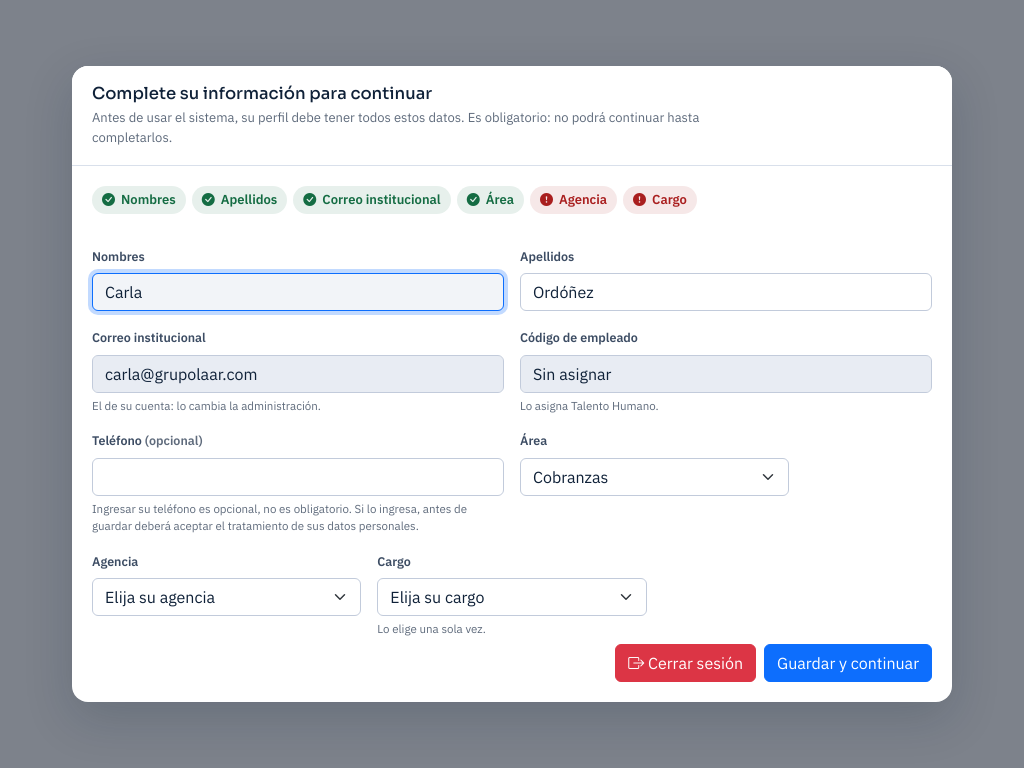
Scenario: Perfil obligatorio al entrar › si guarda y aún falta algo, sigue bloqueado
Type "0994182273" into the field labelled "Teléfono (opcional)" at (298, 477), box 92,458 -> 504,496
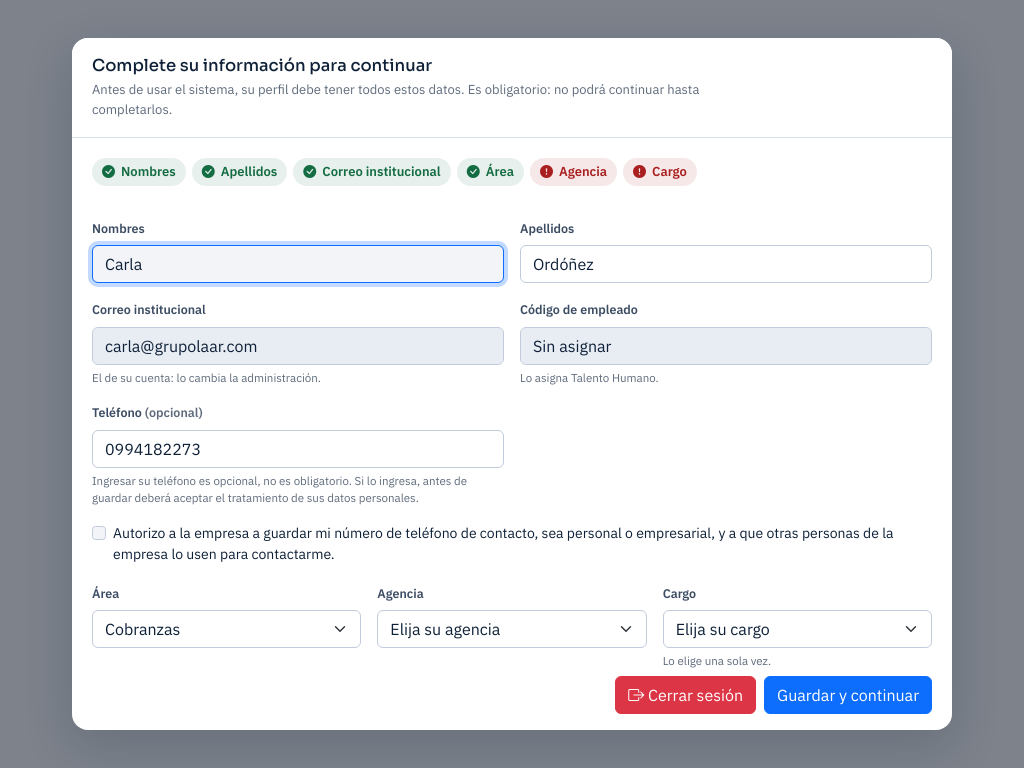
Click the checkbox labelled "Autorizo a la empresa" at (99, 533), box 92,526 -> 106,540
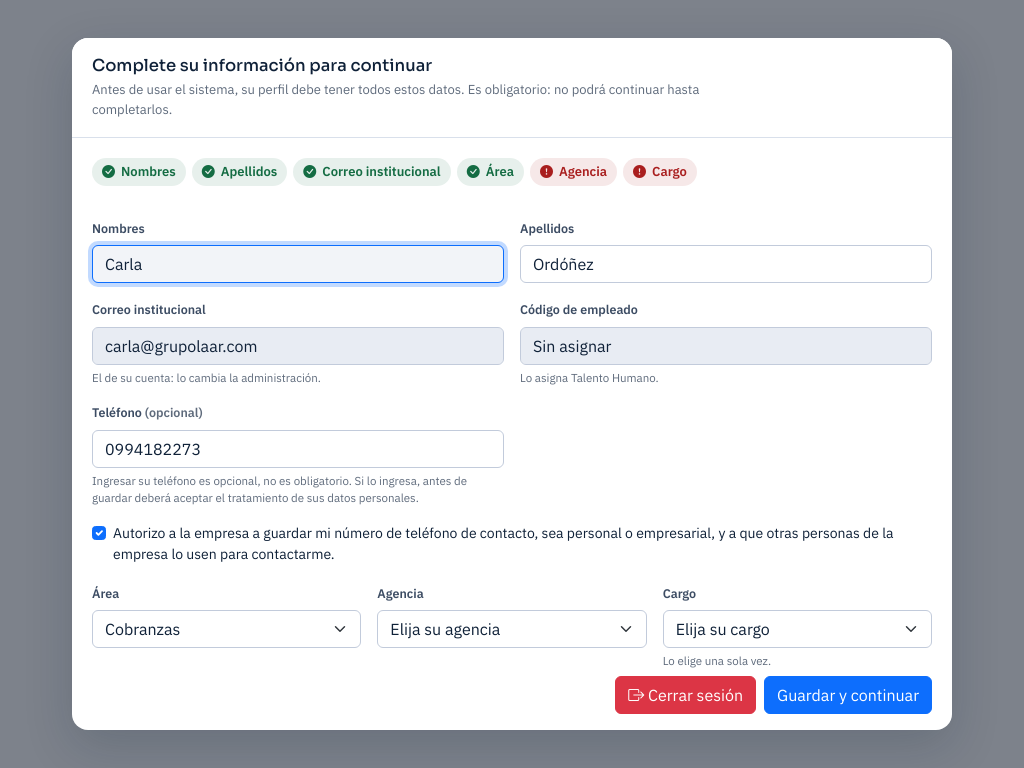
Select "Loja · Agencia" in the dropdown labelled "Agencia" at (512, 630), box 377,610 -> 647,648
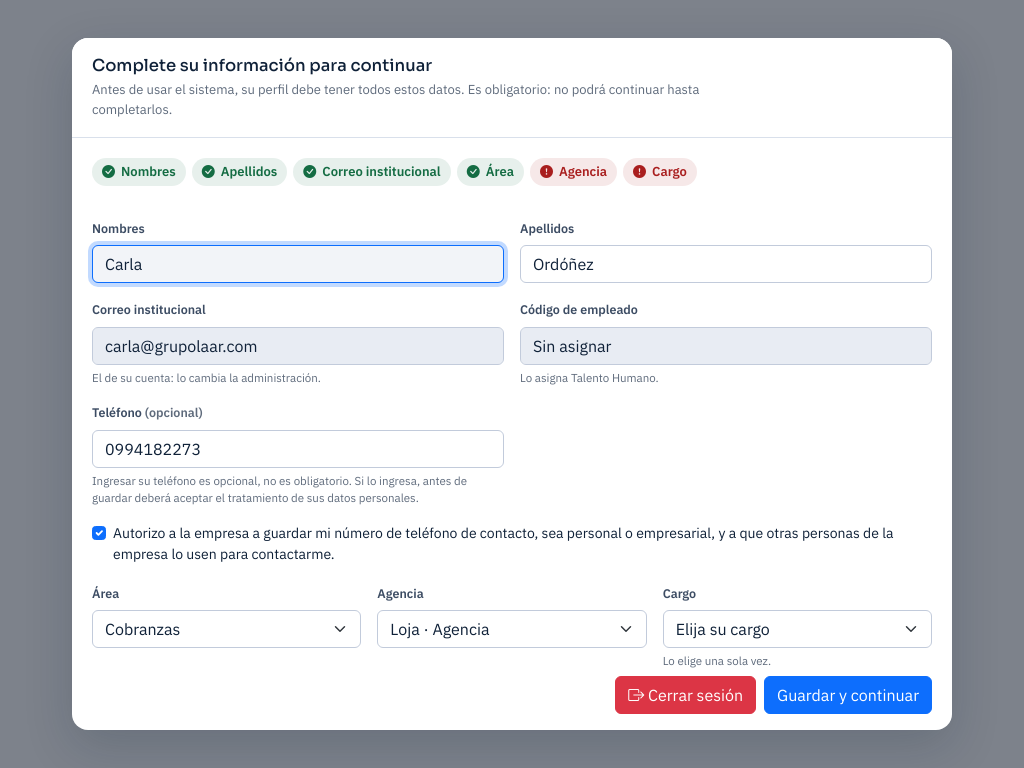
Select "Analista · Cobranzas" in the dropdown labelled "Cargo" at (797, 630), box 663,610 -> 932,648
(page scrolled)
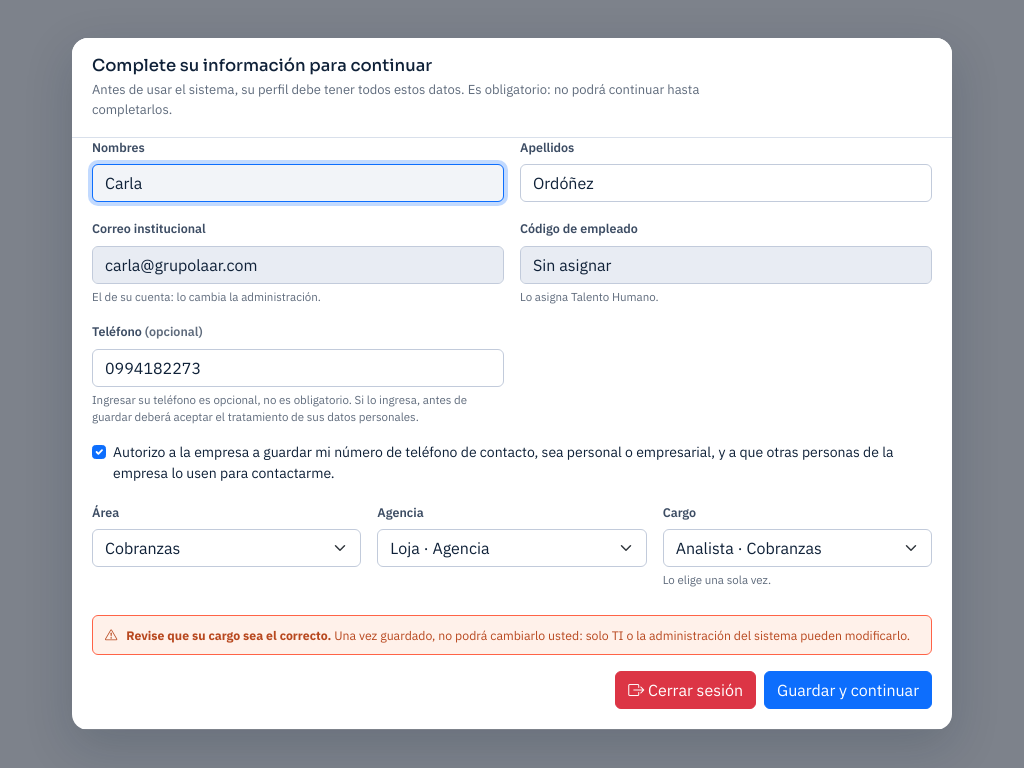
Click the button "Guardar y continuar" at (848, 690), box 764,671 -> 932,709
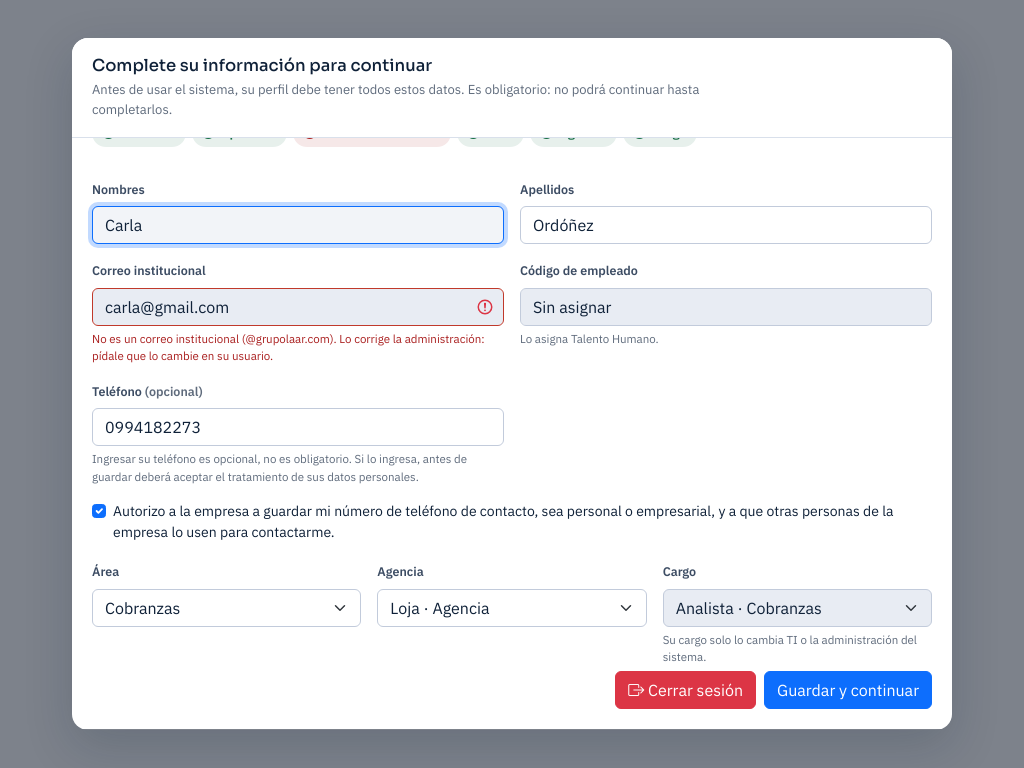
Now the text "No es un correo institucional" is shown, box 92,331 -> 485,364
